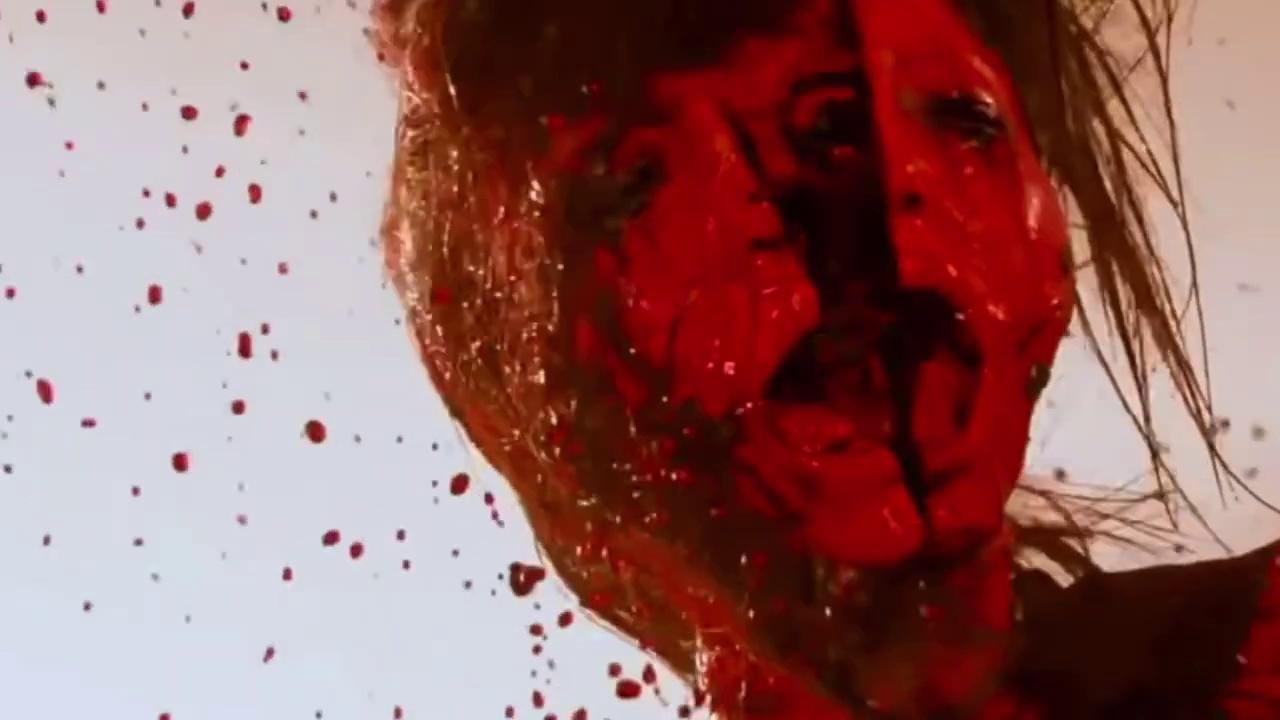Fire: (374, 0, 1280, 718), (454, 547, 705, 720), (272, 675, 462, 719), (318, 520, 422, 580), (440, 468, 521, 540), (300, 415, 420, 458), (1220, 416, 1280, 476), (21, 66, 56, 106), (169, 450, 194, 474), (34, 377, 53, 404), (237, 331, 252, 358), (193, 199, 212, 220), (233, 112, 251, 134), (246, 181, 262, 202), (227, 398, 246, 415), (178, 103, 197, 120), (276, 259, 297, 274), (147, 284, 162, 304), (247, 182, 262, 202), (261, 646, 275, 664), (276, 4, 291, 20), (180, 104, 197, 118), (163, 190, 176, 207), (296, 87, 309, 102), (311, 426, 323, 442), (80, 416, 96, 428), (163, 190, 175, 206), (307, 207, 321, 220), (181, 1, 193, 16), (93, 77, 105, 92), (32, 7, 44, 22), (281, 566, 292, 582), (234, 513, 247, 526), (195, 203, 208, 216), (213, 163, 225, 176), (276, 262, 288, 274), (150, 285, 161, 298), (128, 485, 141, 496), (72, 261, 83, 274), (327, 189, 338, 202), (3, 285, 15, 296), (62, 139, 74, 150), (80, 417, 94, 426), (95, 0, 104, 14), (35, 380, 47, 390), (134, 216, 144, 228), (2, 464, 12, 474), (136, 26, 145, 36), (41, 394, 50, 404), (139, 100, 148, 110), (296, 124, 305, 134), (4, 287, 13, 296), (132, 537, 141, 546), (214, 165, 223, 174), (239, 59, 248, 68), (167, 85, 176, 94), (140, 186, 149, 195), (22, 368, 32, 376), (143, 391, 151, 400), (180, 143, 188, 152), (329, 190, 335, 202), (235, 122, 242, 132), (233, 112, 240, 122), (346, 308, 354, 316), (42, 535, 49, 544), (23, 369, 32, 376), (270, 349, 277, 358), (134, 219, 141, 228), (236, 482, 242, 492), (236, 114, 246, 120), (141, 187, 148, 195), (180, 144, 187, 152), (225, 435, 232, 442), (216, 166, 222, 174), (395, 316, 401, 324), (309, 208, 315, 216), (359, 254, 365, 262), (83, 603, 89, 610), (260, 326, 267, 332), (64, 141, 70, 148), (261, 325, 267, 332), (298, 128, 304, 134), (380, 280, 384, 288), (249, 198, 257, 202), (366, 169, 371, 174), (150, 298, 156, 302), (260, 157, 263, 162), (229, 103, 232, 108)
